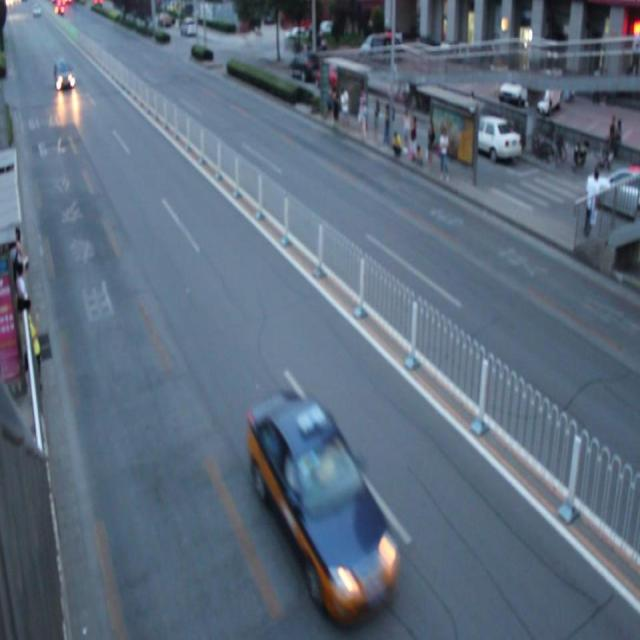car: (249, 391, 402, 607)
